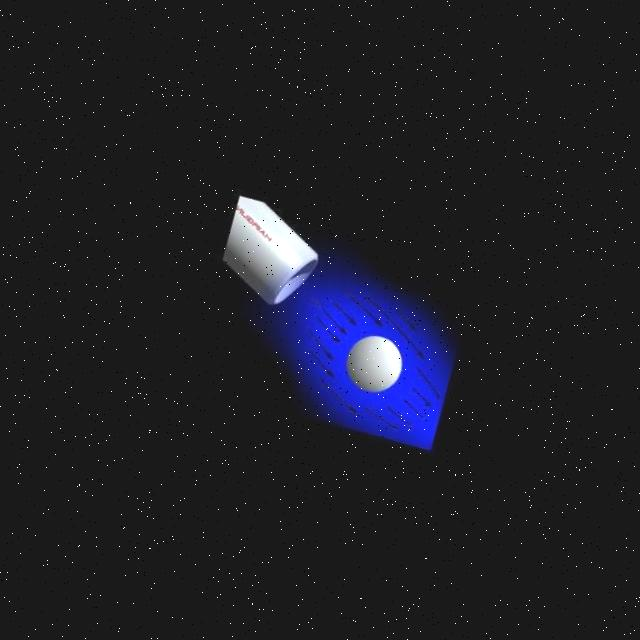ping-pong-ball: (337, 328, 406, 398)
